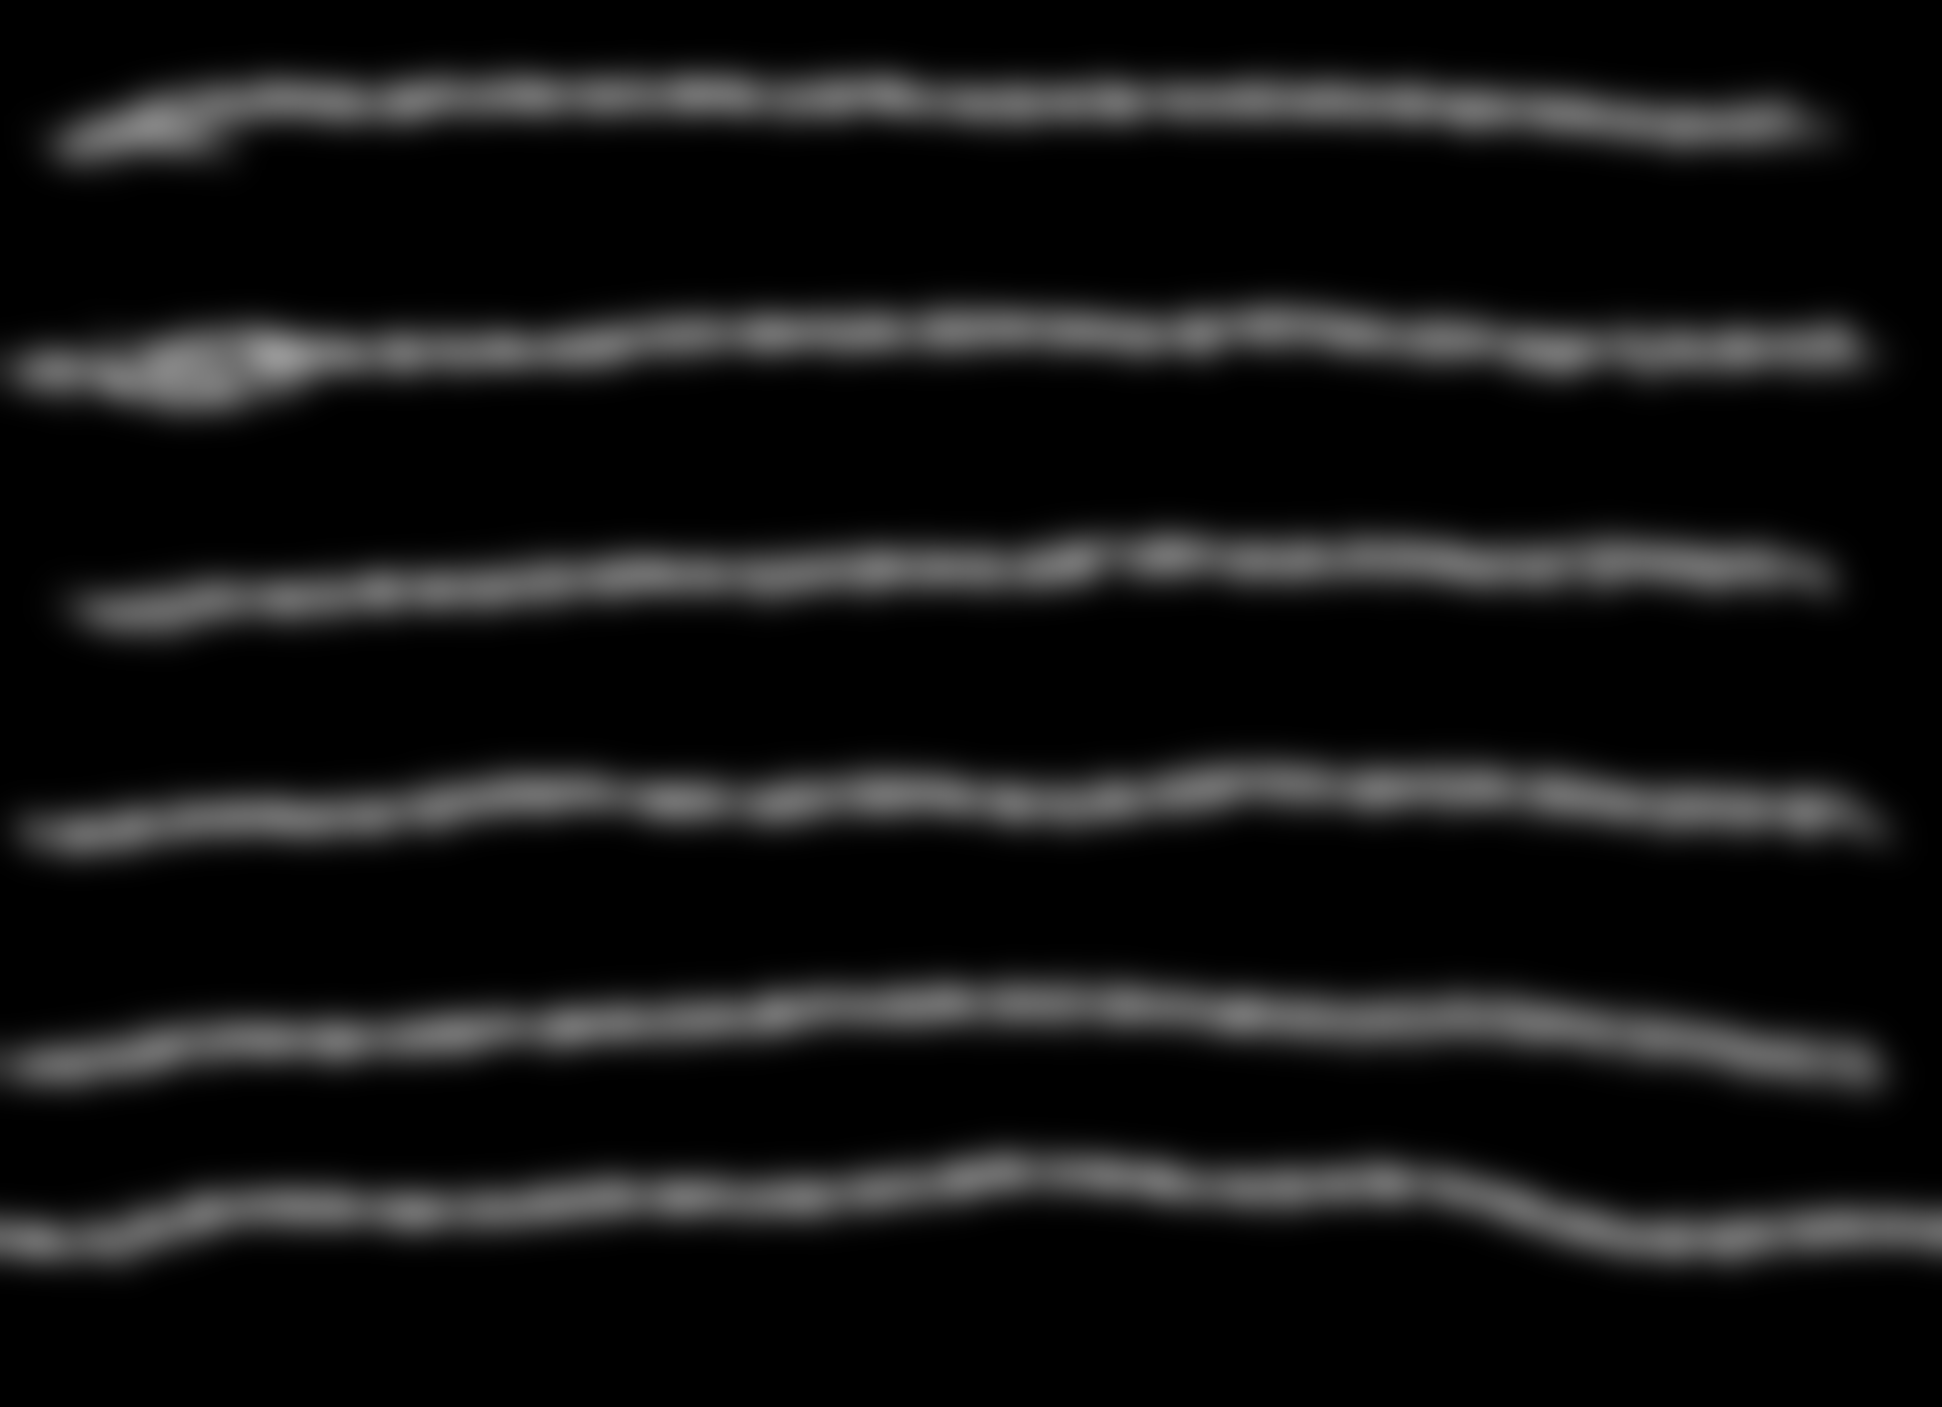Laminar flow: (32, 41, 1915, 1326)
